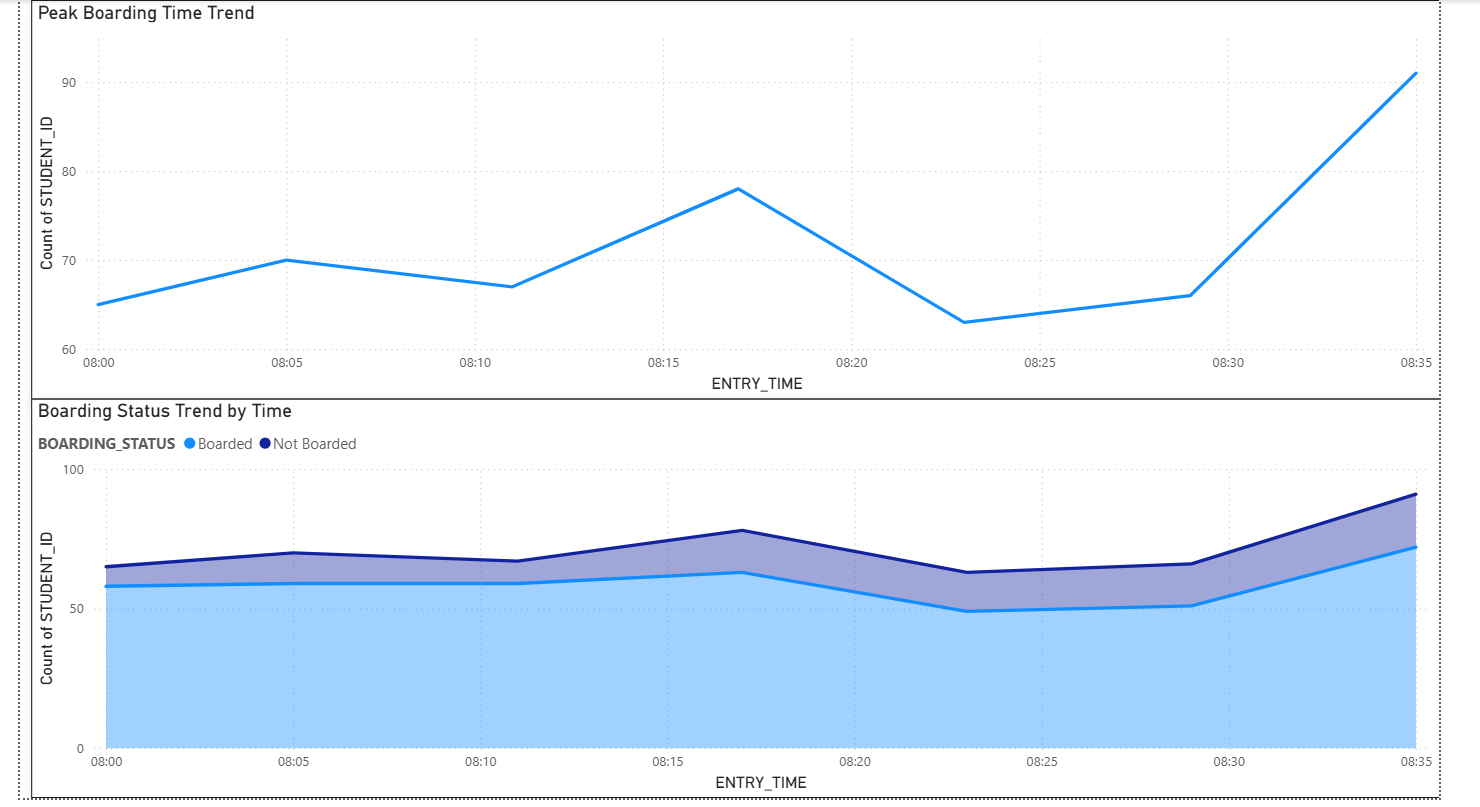

This screenshot's page, from the dashboard's own definition file:
{"tool":"powerbi","page":{"name":"Time Analytics","canvas":[1280,720],"ordinal":2},"visuals":[{"type":"lineChart","title":"Peak Boarding Time Trend","fields":{"Category":["Student_Details.ENTRY_TIME"],"Y":["CountNonNull(Student_Details.STUDENT_ID)"]},"box":[10,0,1270,360],"z":0},{"type":"stackedAreaChart","title":"Boarding Status Trend by Time","fields":{"Category":["Student_Details.ENTRY_TIME"],"Series":["Student_Details.BOARDING_STATUS"],"Y":["CountNonNull(Student_Details.STUDENT_ID)"]},"box":[10,360,1270,360],"z":1000}]}

Visuals, with their boxes in screenshot pixels (x1, y1, x2, y2):
"Peak Boarding Time Trend" lineChart: pyautogui.locateOnScreen(34, 0, 1435, 397)
"Boarding Status Trend by Time" stackedAreaChart: pyautogui.locateOnScreen(34, 397, 1435, 794)
